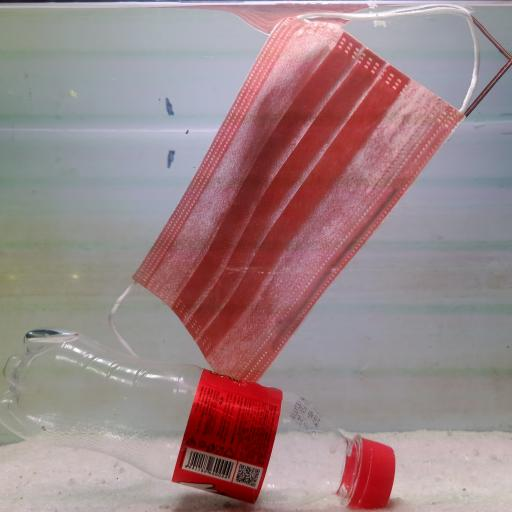bottle_cap: (354, 436, 402, 509)
mask: (114, 18, 480, 379)
plastic_bottle: (3, 329, 401, 512)
